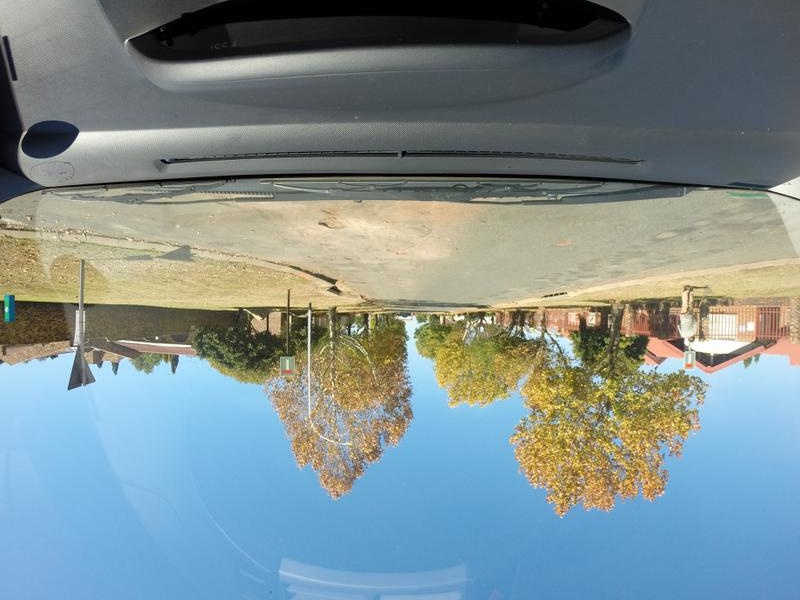pothole: (318, 210, 343, 239), (382, 243, 419, 262)
